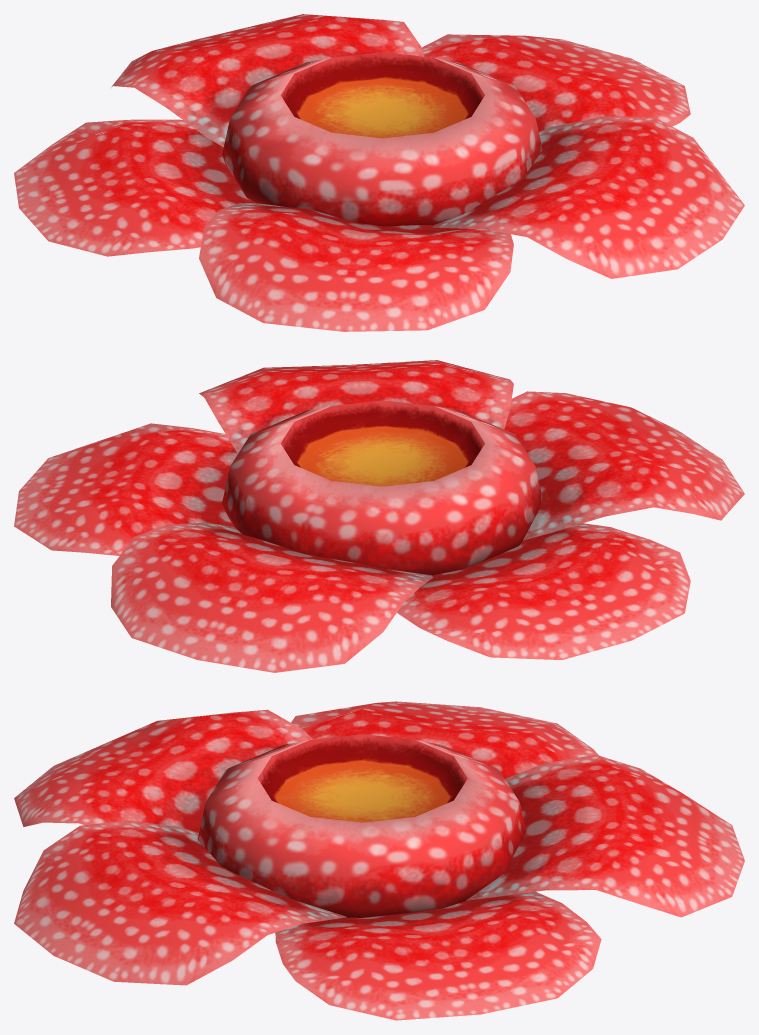
The model's file is rafflesia.fbx.
3 renders of one model, top to bottom at view 1: azimuth 30°, elevation 25°; view 2: azimuth 150°, elevation 25°; view 3: azimuth 270°, elevation 25°, orthographic. The views are drawn at different scales.
Visible parts, largest first — view 1: rafflesia.face, rafflesia.petal.004, rafflesia.petal.001, rafflesia.petal.003, rafflesia.petal, rafflesia.petal.002; view 2: rafflesia.face, rafflesia.petal, rafflesia.petal.003, rafflesia.petal.004, rafflesia.petal.002, rafflesia.petal.001; view 3: rafflesia.face, rafflesia.petal.001, rafflesia.petal.002, rafflesia.petal, rafflesia.petal.004, rafflesia.petal.003.
Boxes of the visible parts, x1,y1,x2,y2 form: rafflesia.face: [222, 52, 542, 226]; rafflesia.petal.004: [199, 203, 513, 331]; rafflesia.petal.001: [432, 116, 744, 278]; rafflesia.petal.003: [14, 119, 256, 256]; rafflesia.petal: [111, 14, 424, 147]; rafflesia.petal.002: [422, 34, 690, 131]; rafflesia.face: [222, 400, 542, 575]; rafflesia.petal: [111, 522, 432, 672]; rafflesia.petal.003: [397, 523, 690, 659]; rafflesia.petal.004: [504, 391, 744, 540]; rafflesia.petal.002: [14, 423, 237, 555]; rafflesia.petal.001: [199, 360, 513, 453]; rafflesia.face: [197, 734, 525, 917]; rafflesia.petal.001: [14, 820, 346, 985]; rafflesia.petal.002: [275, 891, 601, 1020]; rafflesia.petal: [466, 755, 744, 917]; rafflesia.petal.004: [14, 709, 312, 832]; rafflesia.petal.003: [291, 701, 598, 778].
Size of the model in its own units: 533 by 64.44 by 516.
